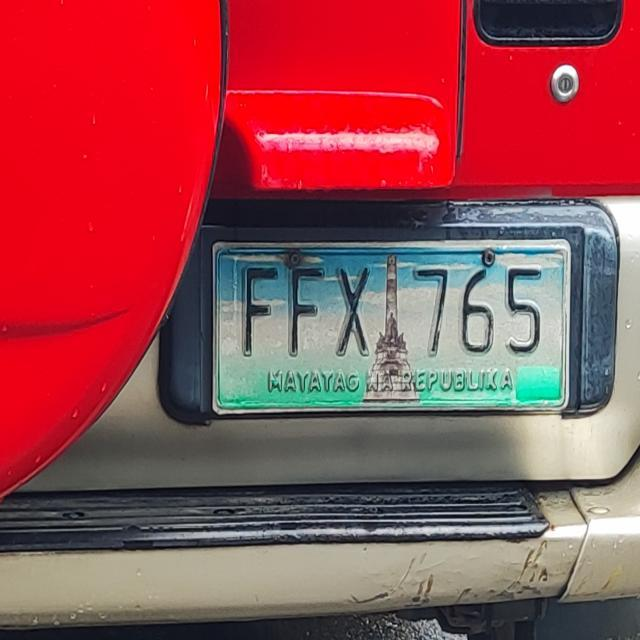LicensePlate: (202, 226, 582, 426)
